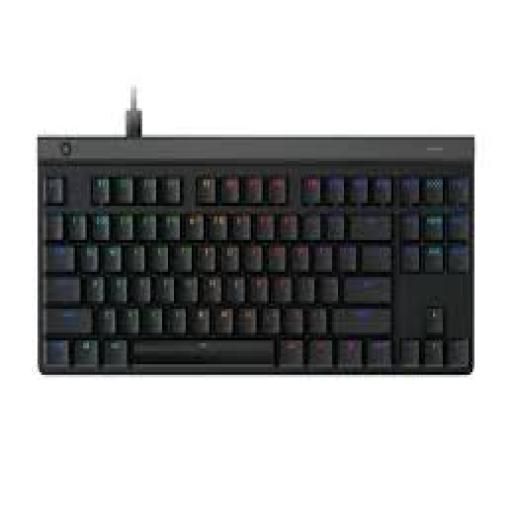KEYBOARD-2: (38, 137, 472, 372)
